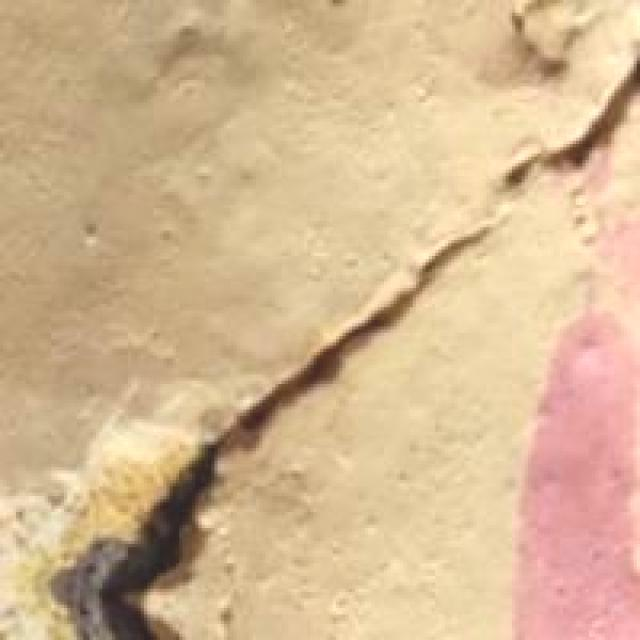SurfaceCrack: (46, 196, 496, 640), (468, 34, 640, 218)
